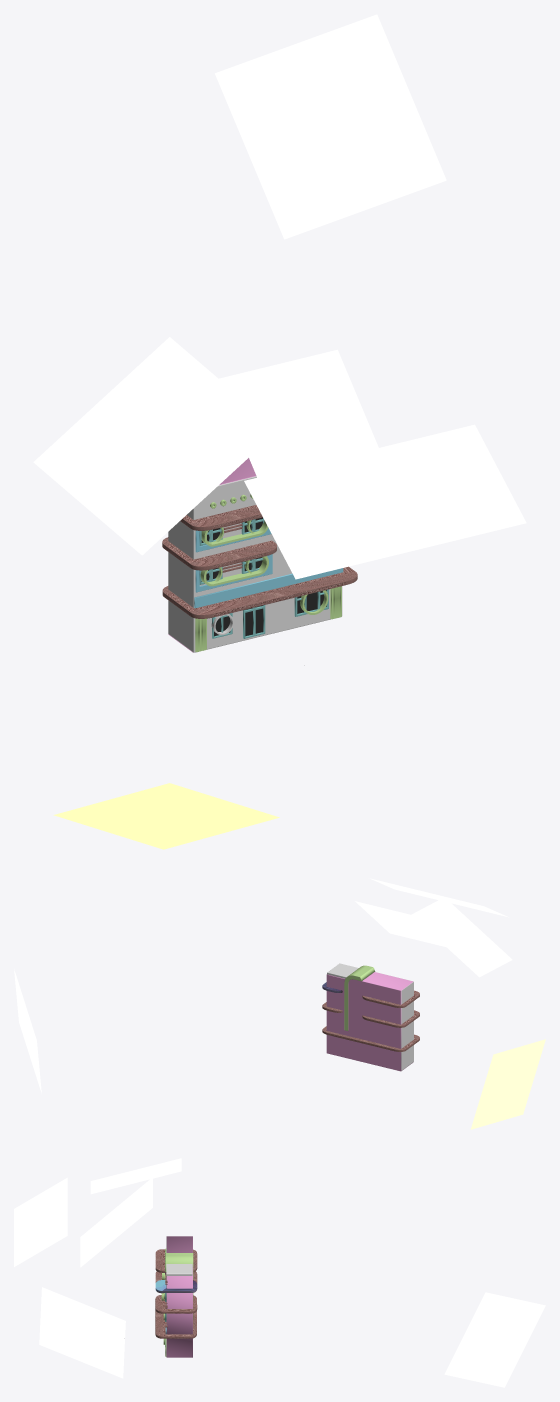
File: BuildingBake2.glb
3 renders of one model, top to bottom at view 1: azimuth 30°, elevation 25°; view 2: azimuth 150°, elevation 25°; view 3: azimuth 270°, elevation 25°, orthographic. The views are drawn at different scales.
Visible parts, largest first — view 1: Plane.005, Plane.002, Plane.003, Plane.001, Cube, Plane.004, Curve.001, Curve.064, Curve.020, Curve.062; view 2: Building, Plane.004, Plane.002, Plane.001, Cube, Plane.005, Plane.003, Curve.002, Curve.001; view 3: Plane.005, Plane.004, Plane.003, Building, Plane.001, Plane.002, Curve.001, Cube, Curve.002, Curve.062, Curve.065, Curve.066.
Boxes of the visible parts, x1=… form: Plane.005: x1=215, y1=14, x2=446, y2=239; Plane.002: x1=33, y1=337, x2=278, y2=555; Plane.003: x1=244, y1=424, x2=526, y2=579; Plane.001: x1=219, y1=349, x2=378, y2=477; Cube: x1=168, y1=476, x2=342, y2=652; Plane.004: x1=53, y1=783, x2=279, y2=849; Curve.001: x1=162, y1=566, x2=357, y2=618; Curve.064: x1=162, y1=537, x2=276, y2=570; Curve.020: x1=194, y1=568, x2=343, y2=608; Curve.062: x1=180, y1=505, x2=262, y2=530; Building: x1=326, y1=972, x2=413, y2=1071; Plane.004: x1=470, y1=1039, x2=545, y2=1129; Plane.002: x1=411, y1=897, x2=512, y2=977; Plane.001: x1=355, y1=901, x2=445, y2=946; Cube: x1=327, y1=963, x2=413, y2=1070; Plane.005: x1=14, y1=969, x2=41, y2=1093; Plane.003: x1=370, y1=878, x2=508, y2=917; Curve.002: x1=344, y1=965, x2=375, y2=1030; Curve.001: x1=322, y1=1026, x2=419, y2=1051; Plane.005: x1=444, y1=1292, x2=545, y2=1387; Plane.004: x1=39, y1=1287, x2=125, y2=1378; Plane.003: x1=14, y1=1177, x2=67, y2=1266; Building: x1=166, y1=1236, x2=192, y2=1357; Plane.001: x1=80, y1=1177, x2=152, y2=1267; Plane.002: x1=90, y1=1158, x2=181, y2=1194; Curve.001: x1=155, y1=1295, x2=196, y2=1338; Cube: x1=166, y1=1236, x2=192, y2=1356; Curve.002: x1=165, y1=1253, x2=193, y2=1319; Curve.062: x1=155, y1=1249, x2=197, y2=1272; Curve.065: x1=155, y1=1300, x2=197, y2=1313; Curve.066: x1=155, y1=1280, x2=197, y2=1292.
Bounding box in the file's own units: 13.12 × 8.16 × 16.65.
15 materials, 3 textured.
